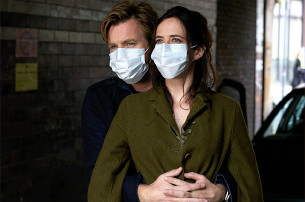face_mask: (108, 21, 147, 83), (151, 20, 186, 79)
